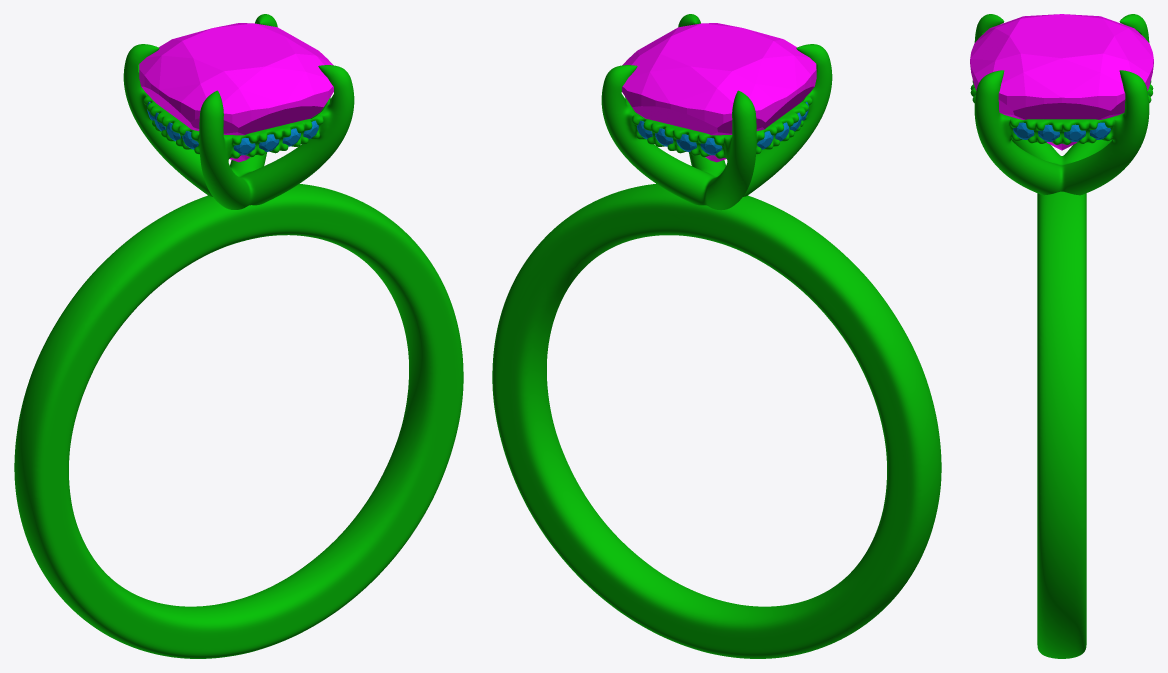
Rendered from BE1D863_CU_200ct_RENDER.glb.
3 renders of one model, left to right at view 1: azimuth 30°, elevation 25°; view 2: azimuth 150°, elevation 25°; view 3: azimuth 270°, elevation 25°, orthographic.
Parts seen in each view (by area): view 1: Metal 01.001, CS_Diamond_Cushion, Metal 01; view 2: Metal 01.001, CS_Diamond_Cushion, Metal 01; view 3: Metal 01.001, CS_Diamond_Cushion, Metal 01.
Part boxes in pixels (x1,y1,x2,y2): Metal 01.001: (14, 184, 463, 658); CS_Diamond_Cushion: (139, 23, 333, 162); Metal 01: (123, 14, 354, 209); Metal 01.001: (492, 183, 941, 658); CS_Diamond_Cushion: (622, 23, 816, 162); Metal 01: (601, 14, 832, 210); Metal 01.001: (1037, 191, 1086, 658); CS_Diamond_Cushion: (970, 14, 1153, 150); Metal 01: (970, 14, 1153, 195).
Bounding box in the file's own units: 20.49 × 27 × 7.5.
